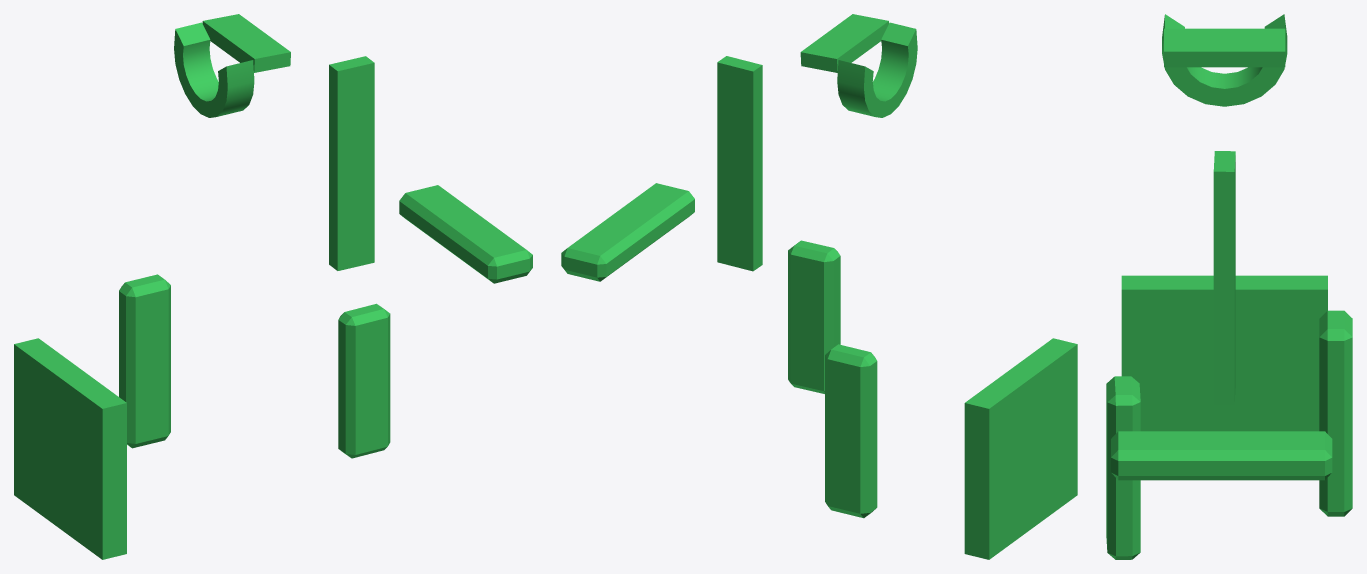
Rendered from Shovel Puzzle.fbx.
3 views of the same model, side by side, from view 1: azimuth 30°, elevation 25°; view 2: azimuth 150°, elevation 25°; view 3: azimuth 270°, elevation 25° (orthographic). The views are drawn at different scales.
Visible parts, largest first — view 1: pCube4, pCube3, pCube5, pCube6, pCube7, pPipe2, pCube2; view 2: pCube4, pCube3, pCube5, pCube6, pCube7, pPipe2, pCube2; view 3: pCube4, pCube7, pCube5, pCube3, pCube6, pCube2, pPipe2.
Part boxes in pixels (x1,y1,x2,y2): pCube4: [14, 338, 126, 559]; pCube3: [329, 56, 374, 270]; pCube5: [119, 274, 170, 448]; pCube6: [338, 303, 390, 458]; pCube7: [399, 185, 532, 283]; pPipe2: [174, 22, 254, 117]; pCube2: [202, 14, 290, 72]; pCube4: [964, 338, 1077, 559]; pCube3: [717, 56, 762, 271]; pCube5: [825, 344, 877, 518]; pCube6: [788, 240, 840, 393]; pCube7: [561, 183, 694, 281]; pPipe2: [837, 22, 917, 117]; pCube2: [800, 14, 888, 72]; pCube4: [1121, 275, 1327, 431]; pCube7: [1111, 431, 1332, 480]; pCube5: [1319, 310, 1352, 516]; pCube3: [1213, 151, 1235, 404]; pCube6: [1106, 376, 1140, 559]; pCube2: [1164, 28, 1285, 67]; pPipe2: [1162, 14, 1287, 106].
Size of the model in its own units: 3.96 by 3.94 by 1.69.
